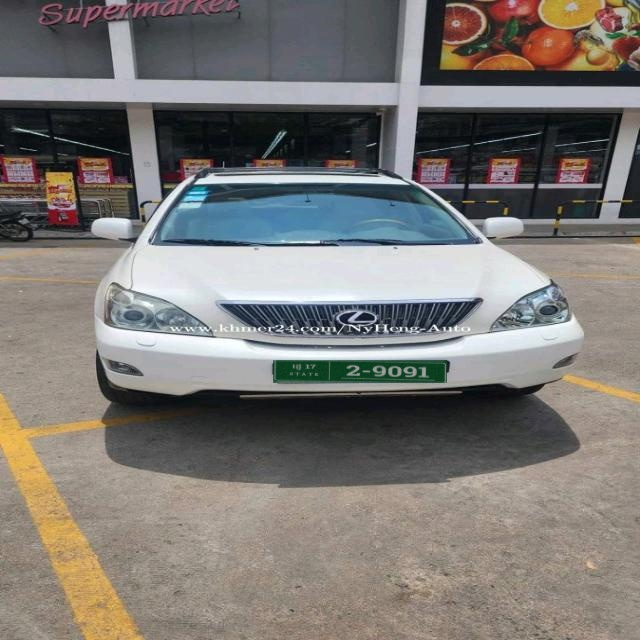Plate Number: (274, 361, 448, 384)
